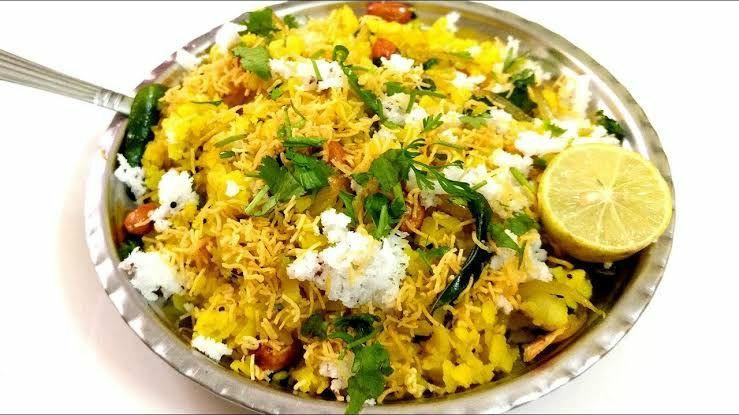Poha: (118, 0, 671, 397)
